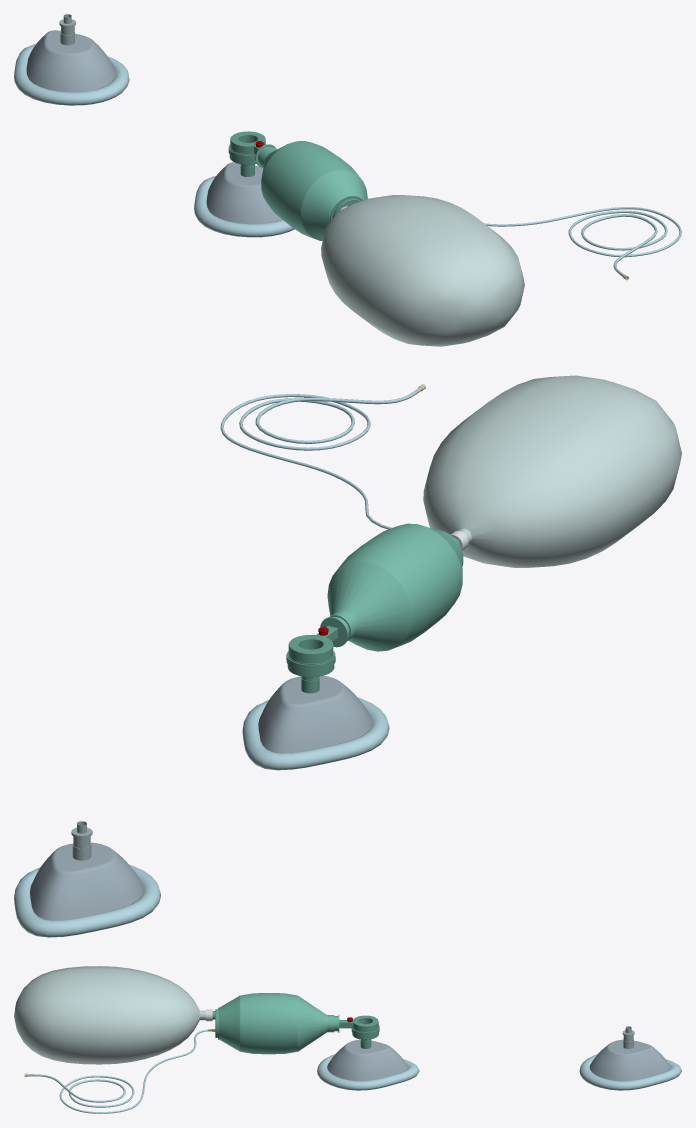
File: BCMM_BVM.fbx
3 views of the same model, one above another, from view 1: azimuth 30°, elevation 25°; view 2: azimuth 150°, elevation 25°; view 3: azimuth 270°, elevation 25° (orthographic). The views are drawn at different scales.
Visible parts, largest first — view 1: BCMM_BVM; view 2: BCMM_BVM; view 3: BCMM_BVM.
Part boxes in pixels (x1,y1,x2,y2): BCMM_BVM: [14, 14, 681, 346]; BCMM_BVM: [14, 375, 681, 937]; BCMM_BVM: [14, 966, 681, 1113].
Size of what is drawn, in the model's own units: 16.48 by 6.23 by 40.
